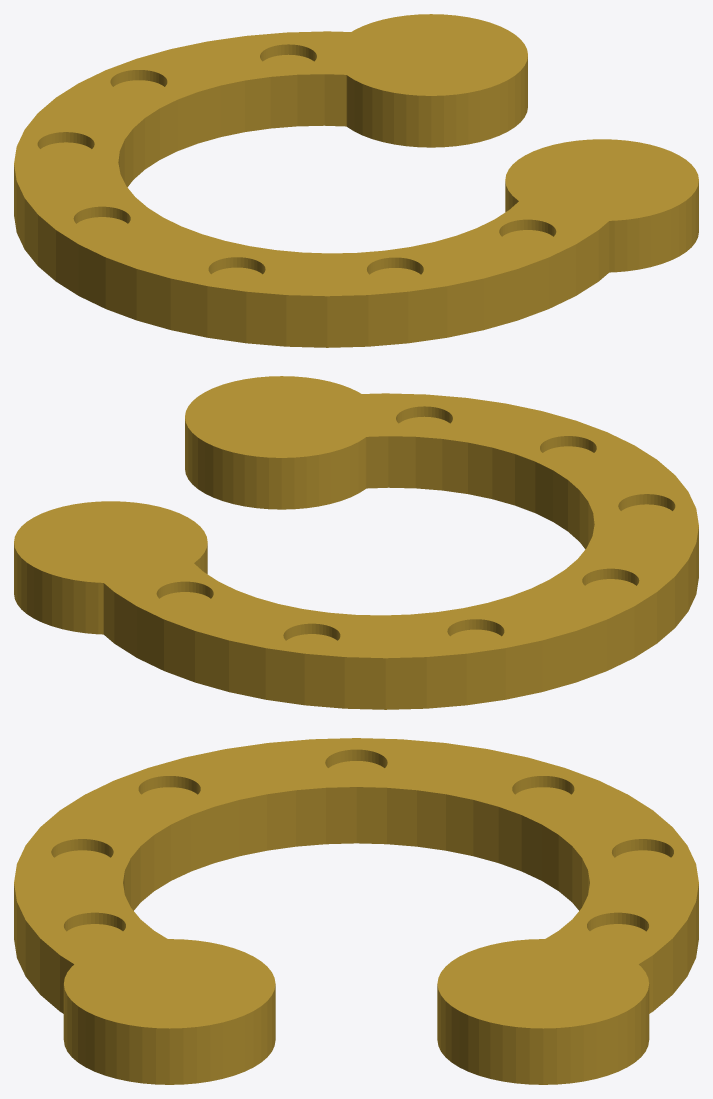
The model's file is goldenHorseshoe.glb.
3 views of the same model, one above another, from view 1: azimuth 30°, elevation 25°; view 2: azimuth 150°, elevation 25°; view 3: azimuth 270°, elevation 25° (orthographic). The views are drawn at different scales.
Parts seen in each view (by area): view 1: Mesh_Mesh_head_geo001_lambert2SG001; view 2: Mesh_Mesh_head_geo001_lambert2SG001; view 3: Mesh_Mesh_head_geo001_lambert2SG001.
Boxes of the visible parts, <box> form: Mesh_Mesh_head_geo001_lambert2SG001: <box>14,14,698,347</box>; Mesh_Mesh_head_geo001_lambert2SG001: <box>14,376,698,709</box>; Mesh_Mesh_head_geo001_lambert2SG001: <box>14,738,698,1084</box>.
Size of the model in its own units: 55.19 by 5 by 55.
